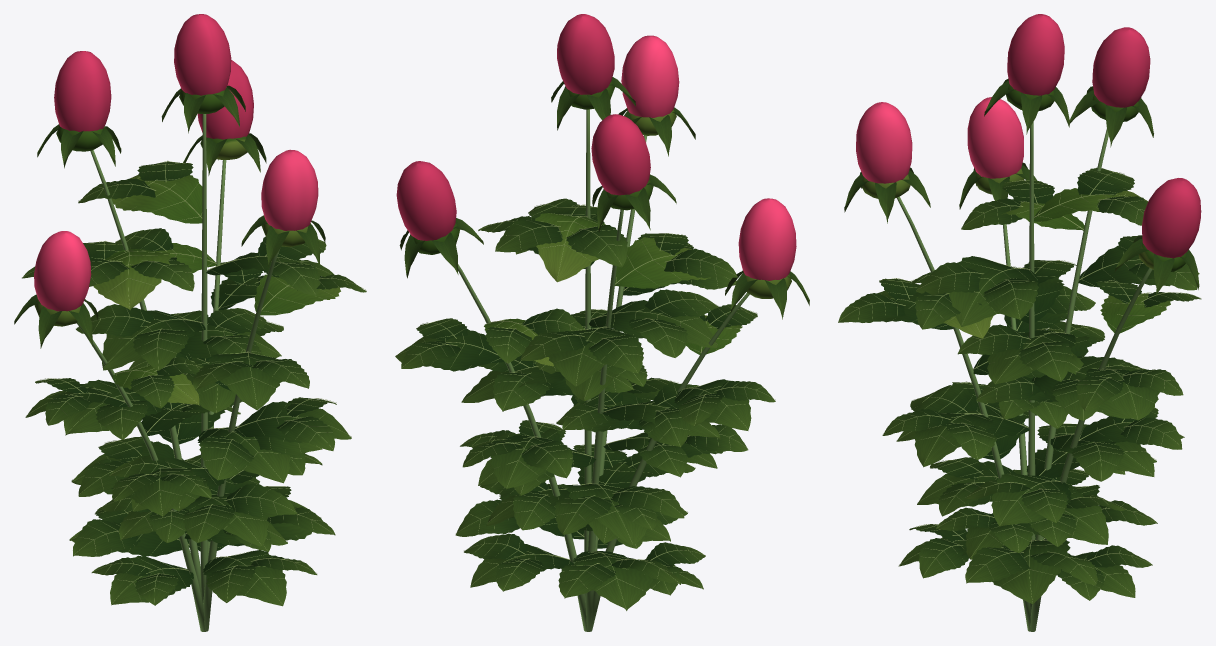
The model's file is dahlia-08.glb.
The picture shows the model from 3 angles, left to right: view 1: azimuth 30°, elevation 25°; view 2: azimuth 150°, elevation 25°; view 3: azimuth 270°, elevation 25°; orthographic projection.
Parts seen in each view (by area): view 1: dahlia_stage_08_leaf_veins.014, dahlia_stage_08_dahlia_petal.014, dahlia_stage_08_young_leaf.014, dahlia_stage_08_raised_midveins.014, dahlia_stage_08_stem_fibres.014; view 2: dahlia_stage_08_leaf_veins.014, dahlia_stage_08_dahlia_petal.014, dahlia_stage_08_raised_midveins.014, dahlia_stage_08_young_leaf.014, dahlia_stage_08_stem_fibres.014; view 3: dahlia_stage_08_leaf_veins.014, dahlia_stage_08_dahlia_petal.014, dahlia_stage_08_raised_midveins.014, dahlia_stage_08_young_leaf.014, dahlia_stage_08_stem_fibres.014.
Boxes of the visible parts, box(x1,y1,x2,y2) form: dahlia_stage_08_leaf_veins.014: box(14, 85, 366, 606); dahlia_stage_08_dahlia_petal.014: box(34, 14, 318, 311); dahlia_stage_08_young_leaf.014: box(34, 87, 340, 405); dahlia_stage_08_raised_midveins.014: box(22, 160, 366, 604); dahlia_stage_08_stem_fibres.014: box(77, 114, 280, 631); dahlia_stage_08_leaf_veins.014: box(395, 77, 809, 610); dahlia_stage_08_dahlia_petal.014: box(396, 14, 796, 280); dahlia_stage_08_raised_midveins.014: box(396, 199, 775, 608); dahlia_stage_08_young_leaf.014: box(410, 81, 791, 366); dahlia_stage_08_stem_fibres.014: box(458, 109, 749, 631); dahlia_stage_08_leaf_veins.014: box(838, 78, 1201, 604); dahlia_stage_08_dahlia_petal.014: box(856, 14, 1201, 258); dahlia_stage_08_raised_midveins.014: box(838, 168, 1201, 602); dahlia_stage_08_young_leaf.014: box(862, 84, 1186, 338); dahlia_stage_08_stem_fibres.014: box(897, 122, 1152, 631).
Size of the model in its own units: 0.3677 by 0.6479 by 0.3474.
5 materials, 3 textured.
